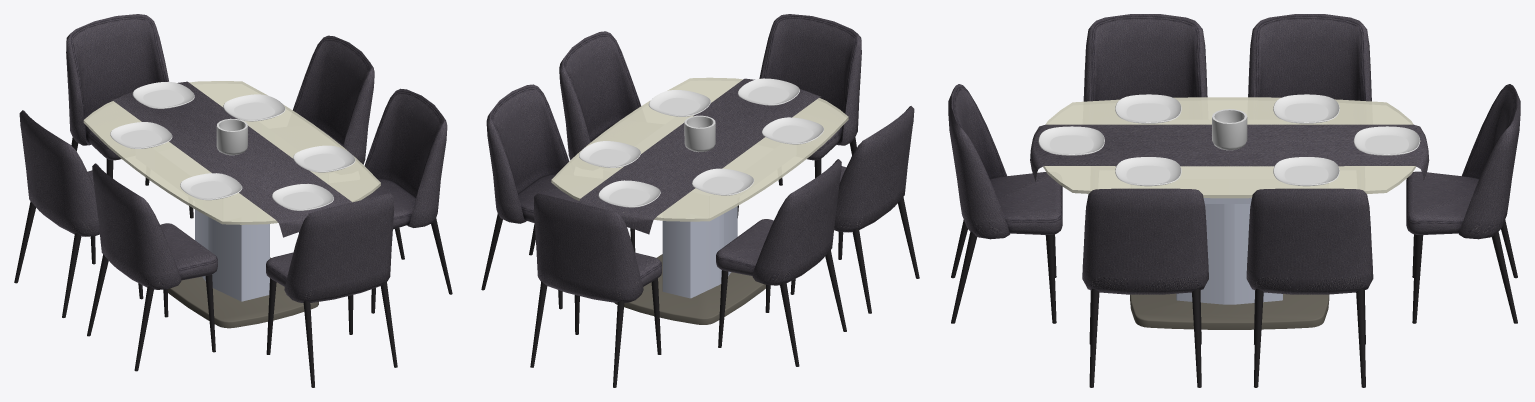
File: Six_Seater_Dining_Table_02.fbx
The picture shows the model from 3 angles, left to right: view 1: azimuth 30°, elevation 25°; view 2: azimuth 150°, elevation 25°; view 3: azimuth 270°, elevation 25°; orthographic projection. The views are drawn at different scales.
Parts seen in each view (by area): view 1: 6-seater; view 2: 6-seater; view 3: 6-seater.
Part boxes in pixels (x1,y1,x2,y2): 6-seater: [14, 14, 452, 387]; 6-seater: [481, 14, 919, 387]; 6-seater: [948, 14, 1520, 387].
Bounding box in the file's own units: 183 × 95.57 × 249.
5 materials, 1 textured.
